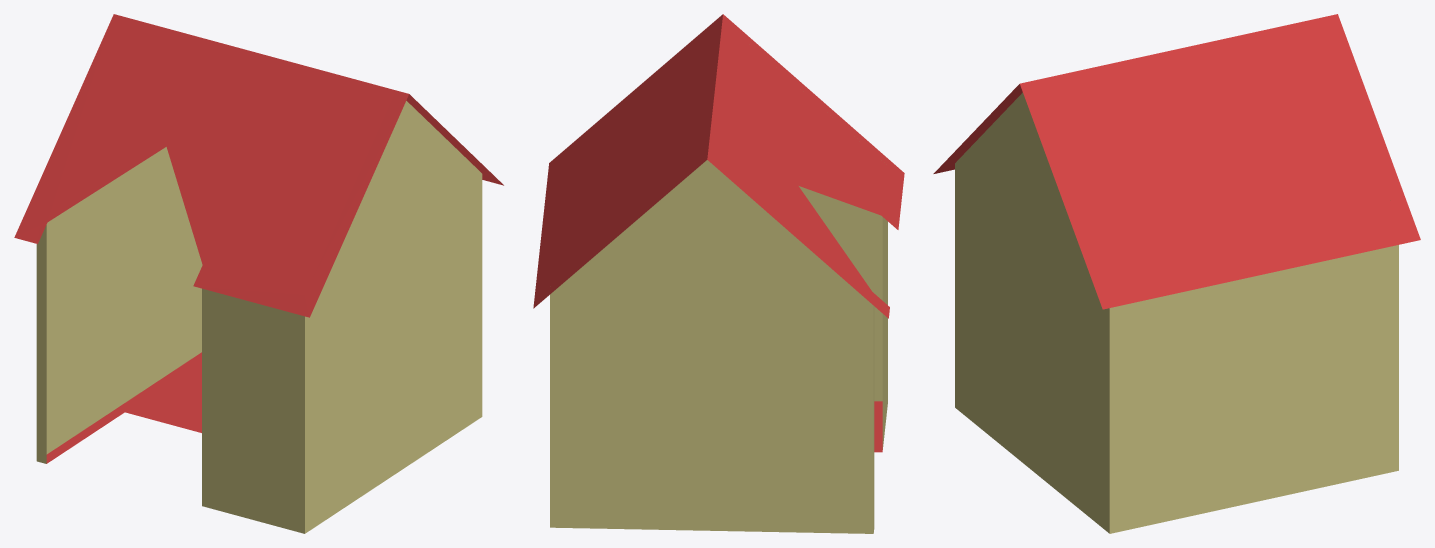
3 renders of one model, left to right at view 1: azimuth 30°, elevation 25°; view 2: azimuth 150°, elevation 25°; view 3: azimuth 270°, elevation 25°, orthographic. The views are drawn at different scales.
Size of the model in its own units: 14.99 by 14.84 by 13.15.
